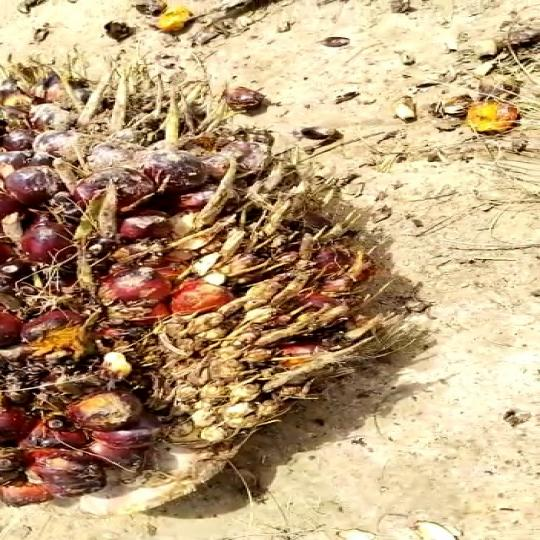kurang masak: (0, 47, 414, 532)
